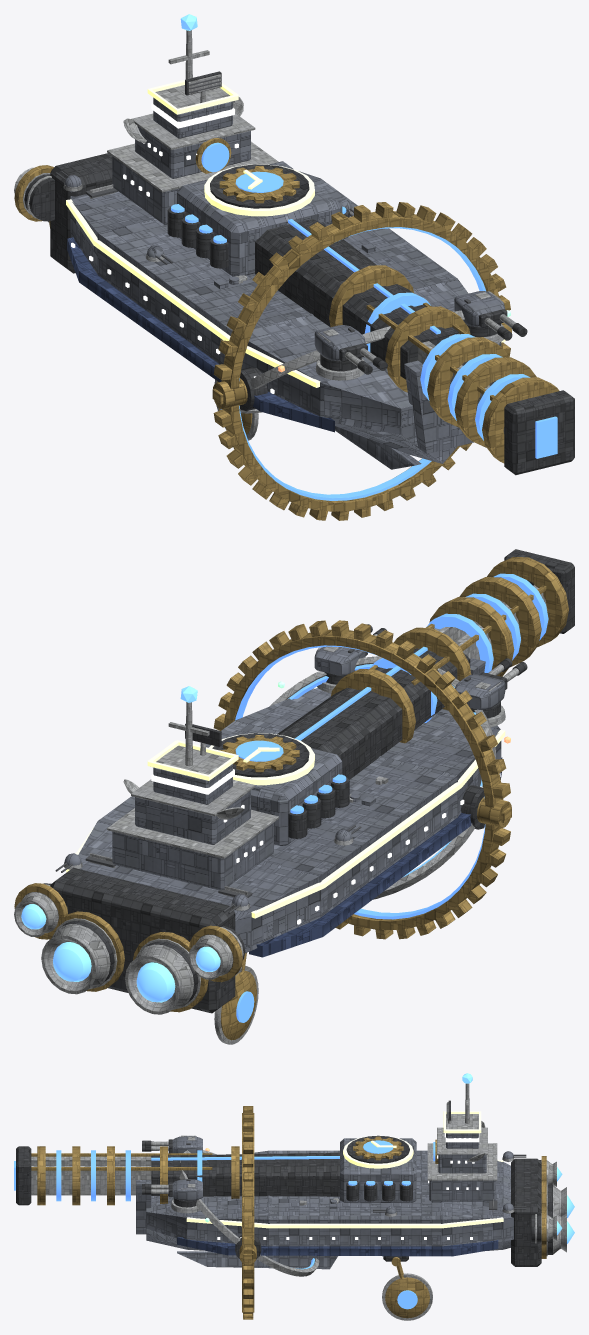
Rendered from pendulum.glb.
The picture shows the model from 3 angles, top to bottom: view 1: azimuth 30°, elevation 25°; view 2: azimuth 150°, elevation 25°; view 3: azimuth 270°, elevation 25°; orthographic projection. The views are drawn at different scales.
Parts seen in each view (by area): view 1: pendulum; view 2: pendulum; view 3: pendulum.
Boxes of the visible parts, x1,y1,x2,y2 form: pendulum: (14, 14, 574, 520); pendulum: (14, 549, 574, 1044); pendulum: (14, 1073, 574, 1320).
Bounding box in the file's own units: 4.18 × 5.34 × 10.99.
12 materials, 5 textured.
